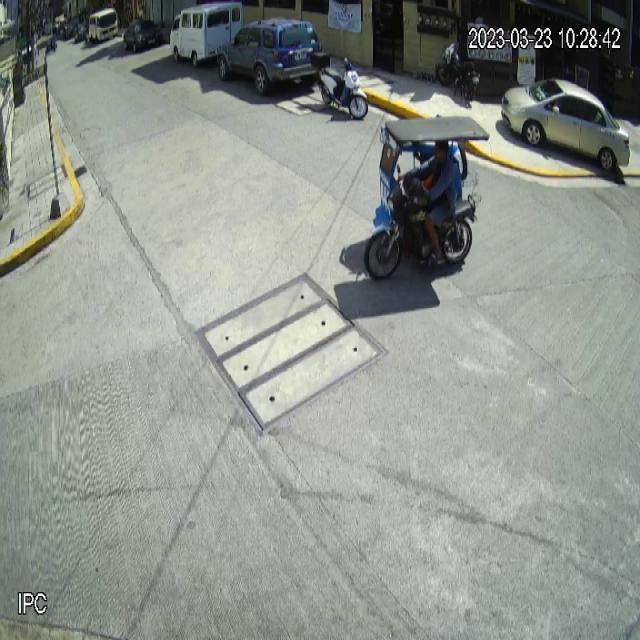Car: (501, 76, 631, 172), (217, 18, 323, 95)
Motorcycle: (311, 50, 368, 120)
Tricycle: (364, 116, 491, 282)
Van: (169, 1, 243, 68)
